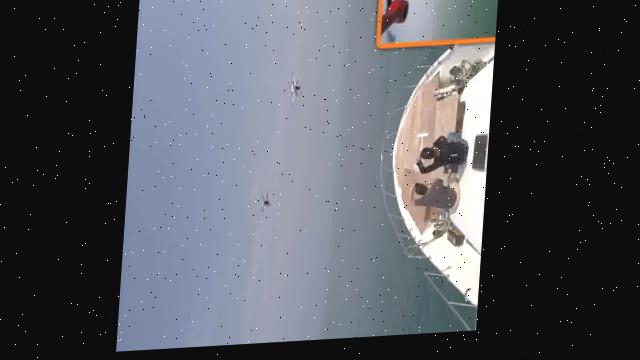drone: (281, 73, 312, 111), (255, 185, 284, 217)
